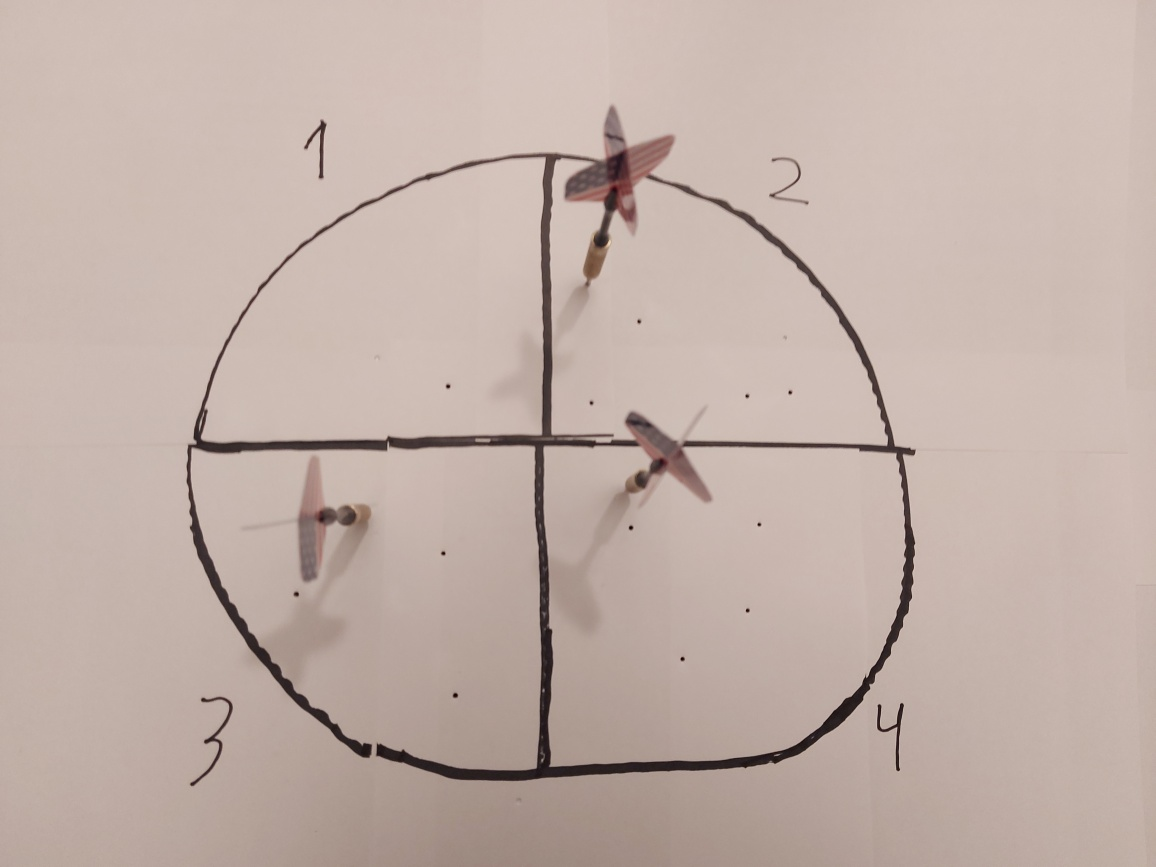Dart: (556, 100, 687, 298), (228, 443, 392, 589), (606, 395, 728, 523)
